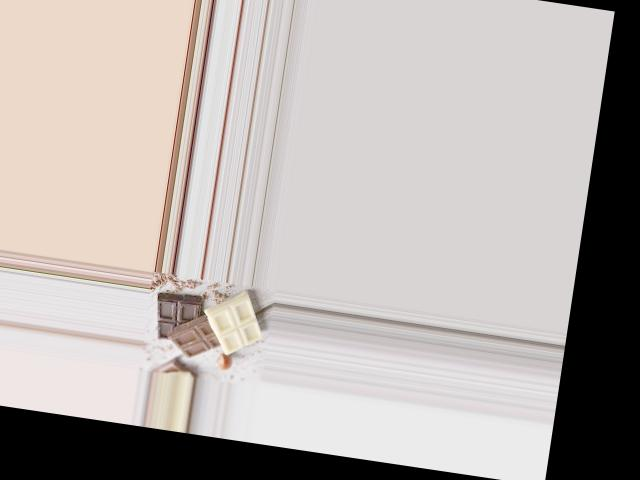chocolate: (144, 284, 267, 368)
